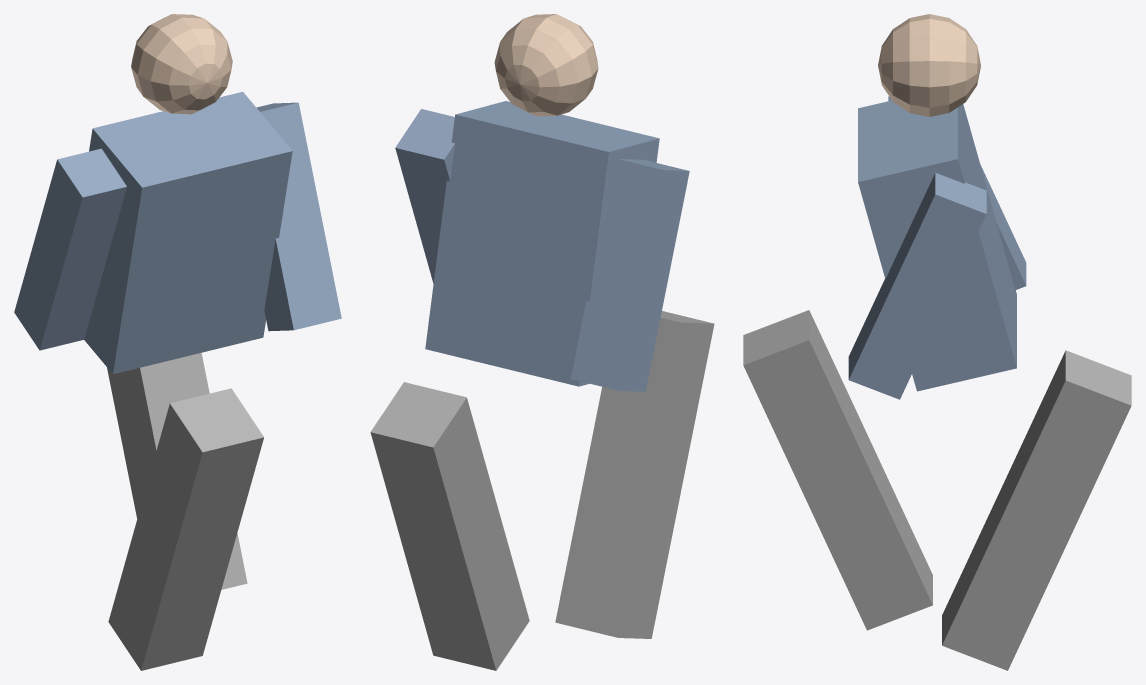
Rendered from sprint_forward.glb.
3 renders of one model, left to right at view 1: azimuth 30°, elevation 25°; view 2: azimuth 150°, elevation 25°; view 3: azimuth 270°, elevation 25°, orthographic. The views are drawn at different scales.
Parts seen in each view (by area): view 1: torso, leg_l, arm_l, arm_r, head, leg_r; view 2: torso, leg_l, leg_r, arm_l, head, arm_r; view 3: leg_l, leg_r, torso, arm_r, head, arm_l.
Part boxes in pixels (x1,y1,x2,y2): torso: (84, 91, 292, 374); leg_l: (108, 388, 263, 670); arm_l: (14, 148, 126, 350); arm_r: (256, 102, 341, 331); head: (131, 14, 232, 114); leg_r: (107, 353, 247, 589); torso: (425, 101, 659, 386); leg_l: (555, 311, 714, 638); leg_r: (370, 382, 529, 670); arm_l: (571, 159, 689, 391); head: (494, 14, 598, 116); arm_r: (395, 109, 454, 283); leg_l: (743, 310, 932, 630); leg_r: (942, 350, 1131, 670); torso: (858, 100, 1016, 391); arm_r: (848, 172, 986, 399); head: (878, 14, 980, 116); arm_l: (888, 96, 1026, 290).
Bounding box in the file's own units: 0.7001 × 1.71 × 0.9774.
